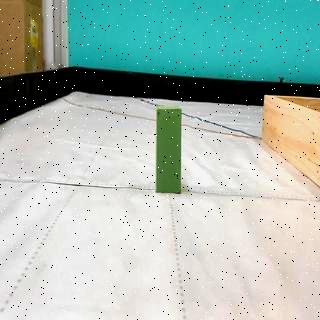greenbox: (154, 106, 184, 194)
